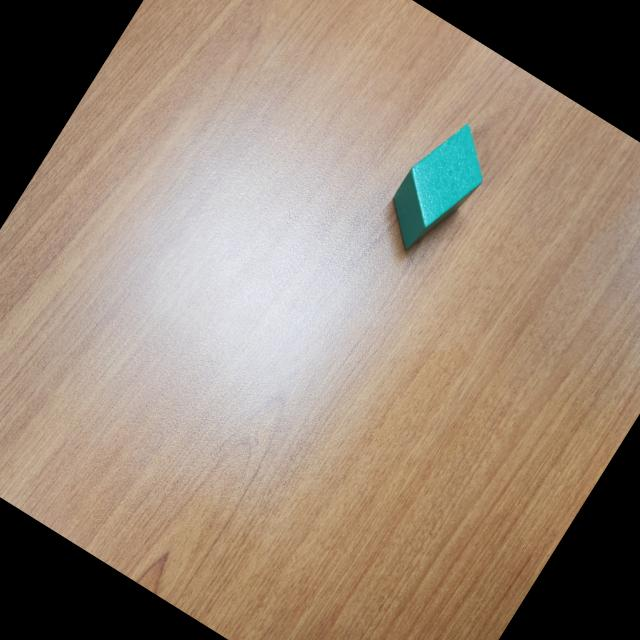green: (370, 108, 505, 266)
